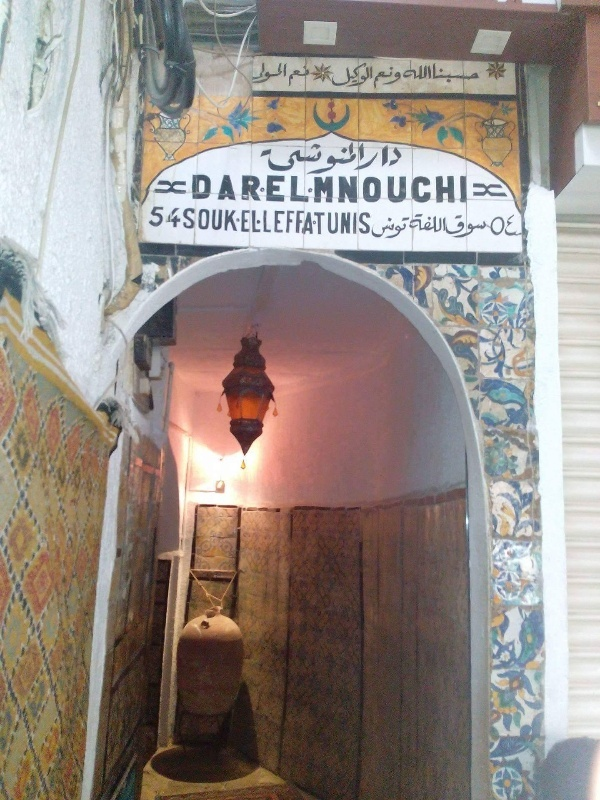text: (273, 141, 288, 175), (289, 141, 304, 175), (305, 141, 320, 175), (321, 141, 336, 175), (337, 141, 352, 175), (273, 175, 288, 204), (289, 175, 304, 204), (369, 143, 384, 172), (385, 143, 400, 172), (321, 174, 336, 203), (337, 174, 352, 203), (353, 174, 368, 203), (369, 174, 384, 203), (385, 174, 400, 203), (401, 174, 416, 203), (417, 174, 432, 203), (433, 174, 448, 203), (449, 174, 464, 203), (353, 141, 365, 175), (193, 175, 208, 202), (209, 175, 224, 202), (225, 175, 240, 202), (241, 175, 256, 202), (273, 210, 288, 236), (289, 210, 304, 236), (449, 214, 464, 240), (465, 214, 480, 240), (385, 66, 400, 91), (337, 63, 352, 88), (353, 63, 368, 88), (193, 208, 208, 233), (209, 208, 224, 233), (241, 209, 256, 234), (261, 141, 272, 175), (497, 214, 512, 238), (321, 211, 336, 235), (337, 211, 352, 235), (353, 211, 368, 235), (161, 205, 176, 229), (385, 216, 400, 240), (225, 208, 239, 233), (257, 62, 272, 85), (273, 62, 288, 85), (465, 63, 481, 84), (290, 65, 304, 88), (433, 63, 448, 84), (449, 63, 464, 84), (417, 214, 432, 234), (372, 216, 384, 240), (433, 214, 447, 234), (417, 64, 433, 81), (305, 210, 315, 236), (150, 205, 160, 229), (375, 66, 384, 91), (401, 216, 410, 240), (264, 210, 272, 236), (404, 64, 416, 81), (185, 208, 192, 233), (266, 175, 272, 204), (305, 175, 311, 204), (314, 174, 320, 203), (257, 175, 263, 202), (481, 214, 487, 240), (490, 214, 496, 238), (314, 211, 320, 235), (305, 65, 311, 88), (257, 209, 262, 234), (513, 214, 518, 238), (177, 205, 182, 229), (410, 214, 416, 234), (364, 143, 368, 172), (369, 63, 373, 88), (465, 174, 468, 203), (333, 63, 336, 88), (369, 211, 372, 235), (253, 62, 256, 85), (401, 143, 403, 172), (447, 214, 448, 240), (401, 66, 402, 91)
